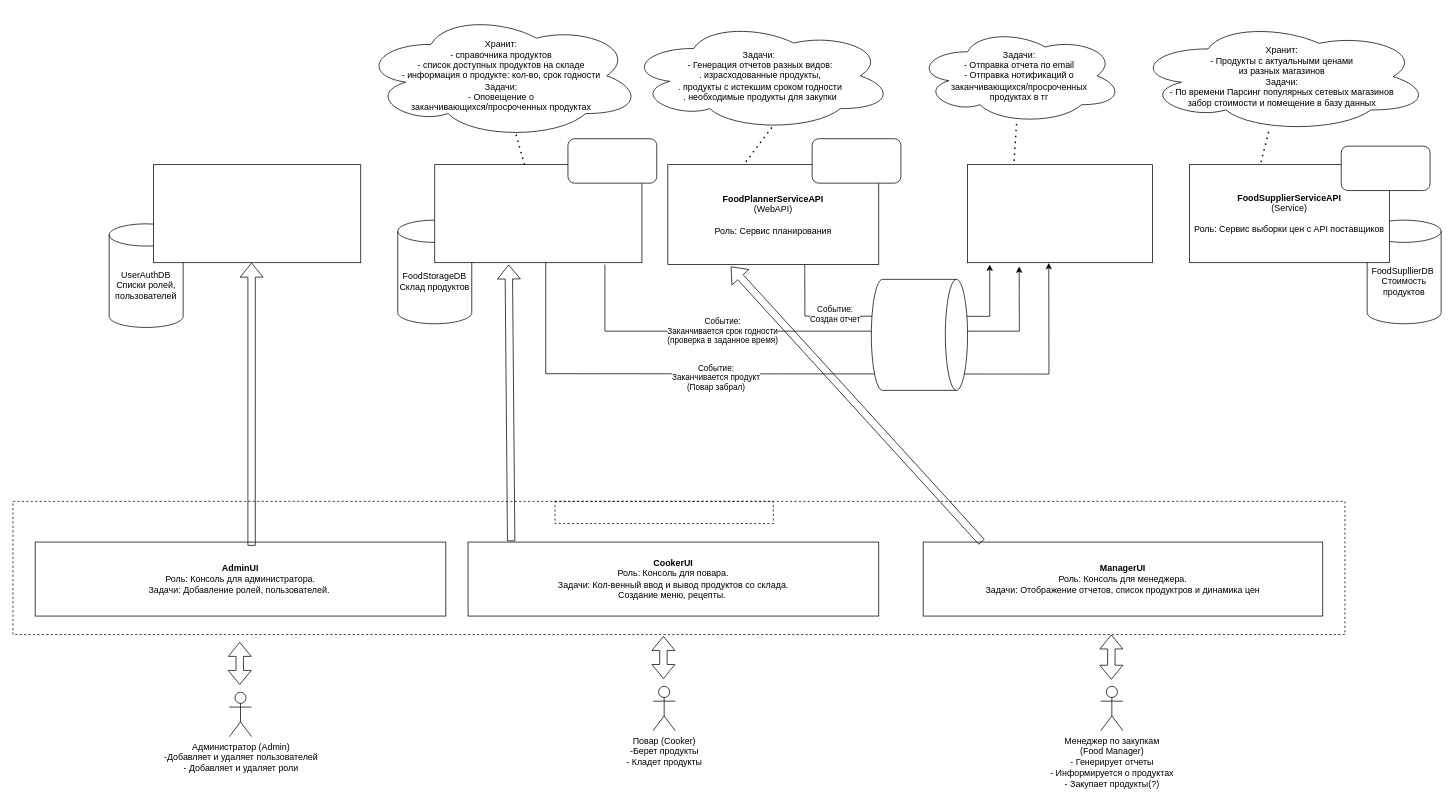
Some shapes in this 1454 by 802 pixel diagram are drawn without their labels. The shapes that lost their labels are listed below. From the top down, each one's centre as x and y in pixels, then its label:
At (x=612, y=160): "Client UserAuth".
At (x=856, y=160): "Client Supplier Client FoodStorage Client UserAuth".
At (x=1385, y=168): "Client FoodStorage".
At (x=257, y=213): "UserAuthServiceAPI (WebAPI) Роль: Сервис пользователей, ролей и аутентификации".
At (x=538, y=213): "FoodStorageServiceAPI (WebAPI) Роль: Сервис учета продуктов на складе".
At (x=1060, y=213): "NotifyService (Service) Роль: Сервис оповещения Менеджера (ТГ, емэйл)".
At (x=919, y=334): "RabbitMq".
At (x=663, y=512): "FoodManagerPortal (WebUI, React JS or Razor)".
